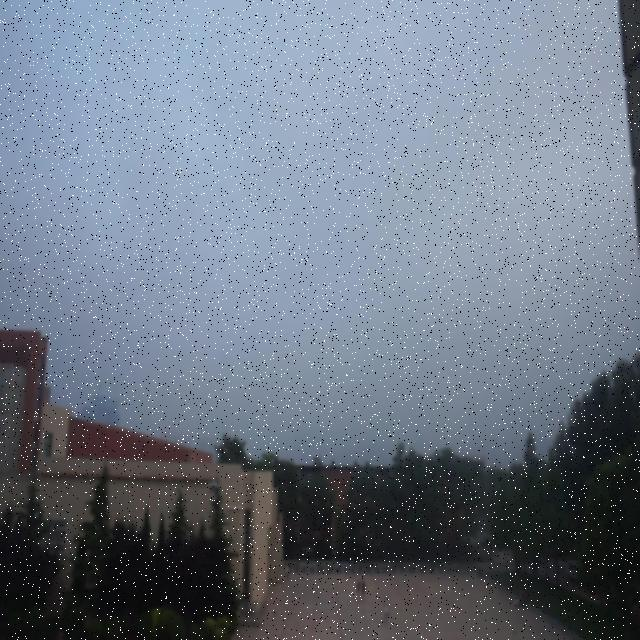UAV: (205, 482, 221, 492)
